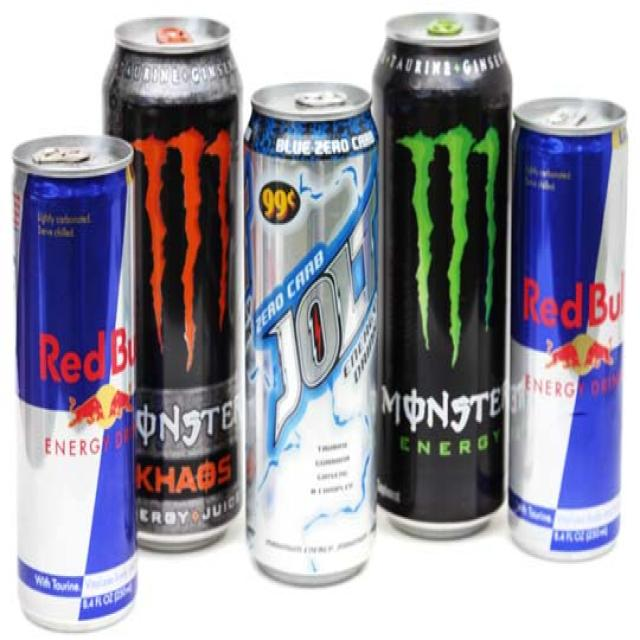can: (372, 9, 514, 543), (102, 16, 243, 551), (242, 78, 378, 590), (11, 129, 138, 635), (511, 96, 627, 565)
